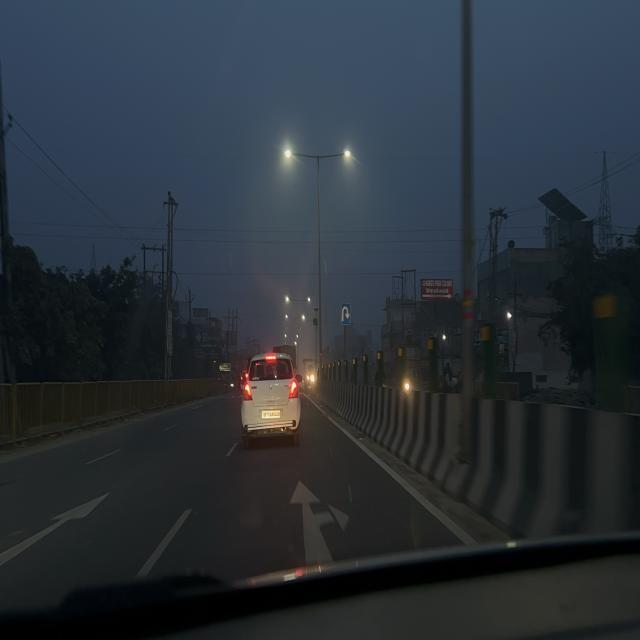U_TURN: (341, 302, 352, 326)
